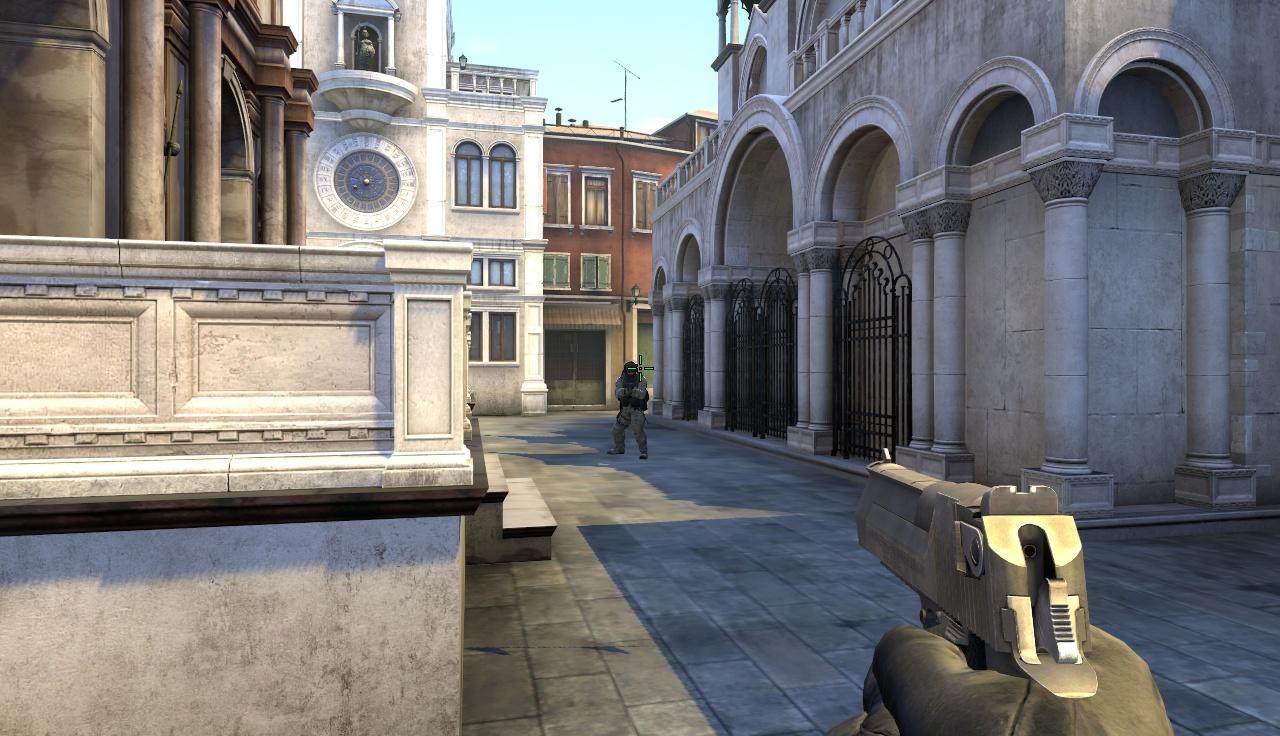ct: (614, 362, 647, 461)
cthead: (625, 362, 637, 378)
pistol: (855, 444, 1176, 736)
